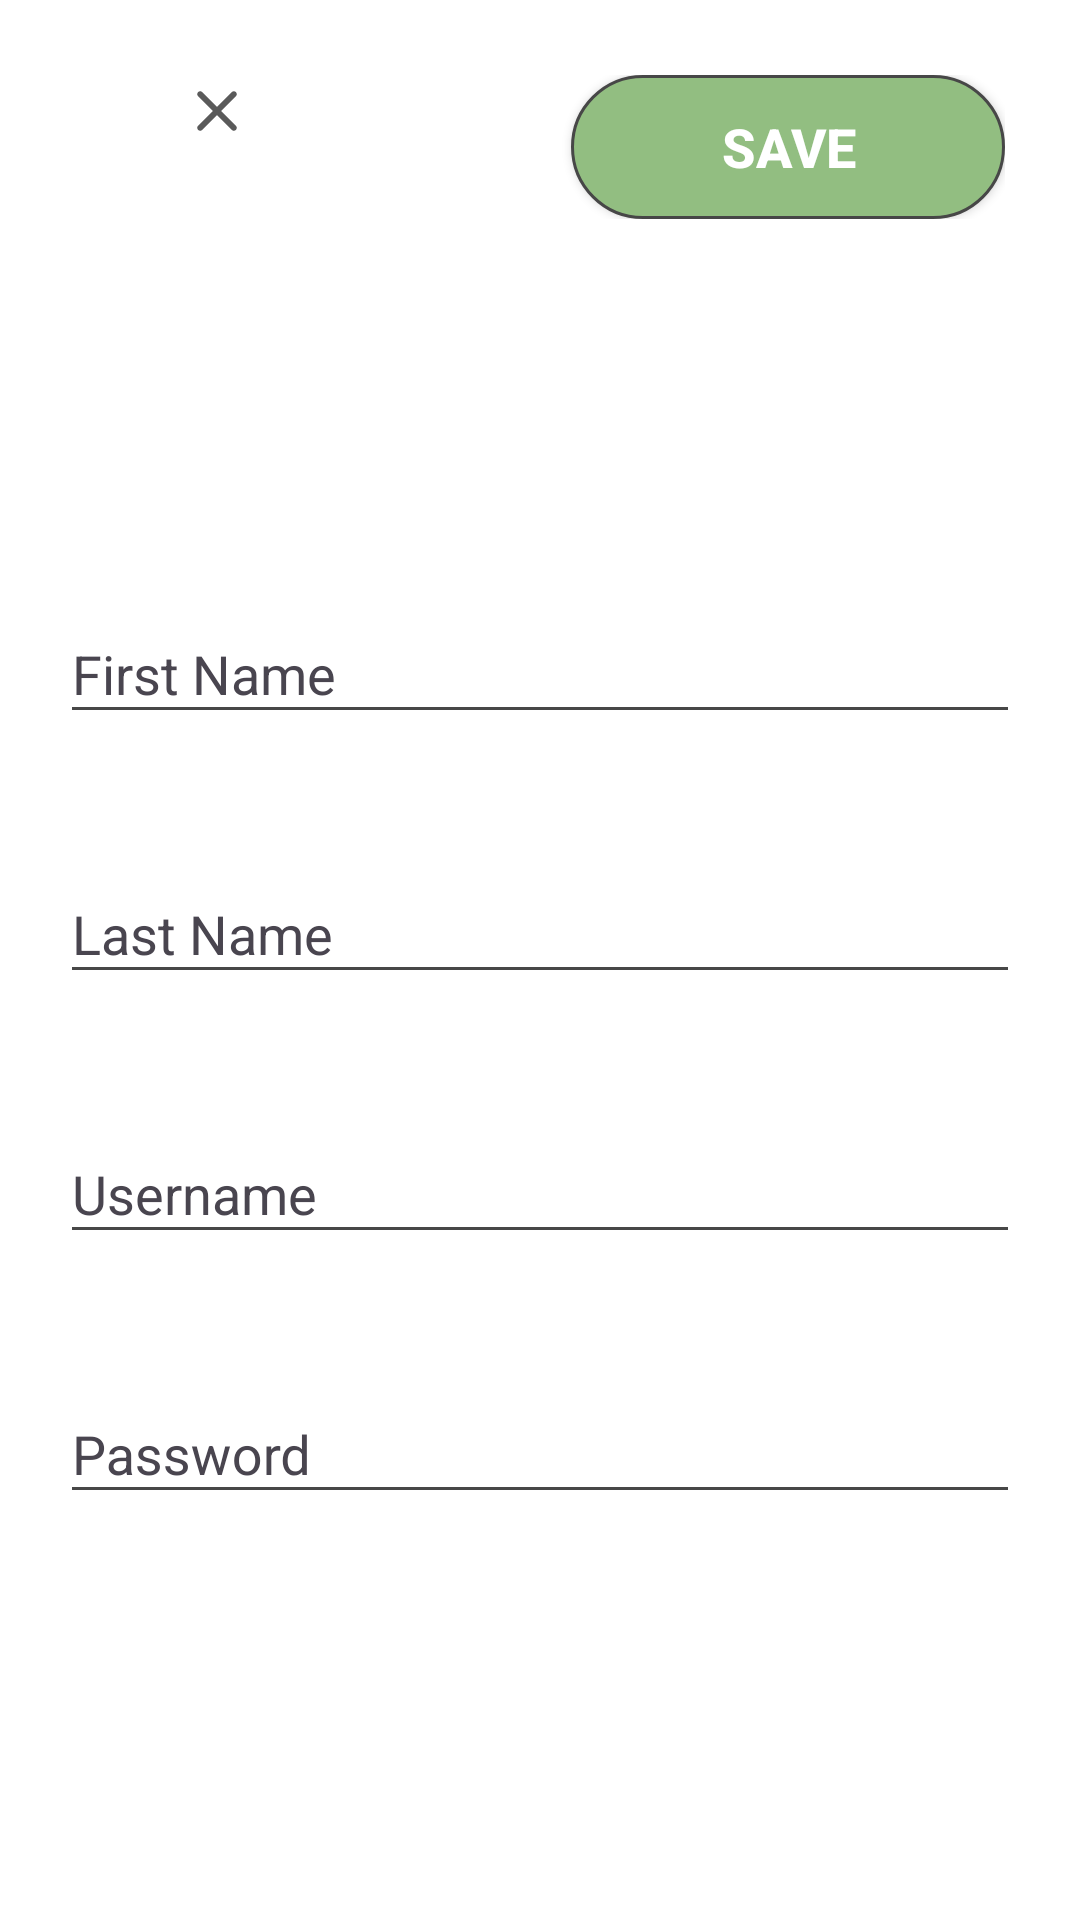

Point at icon controls on the screen. Image size 1080x1920, points as (x,y).
clear: (217,111)
